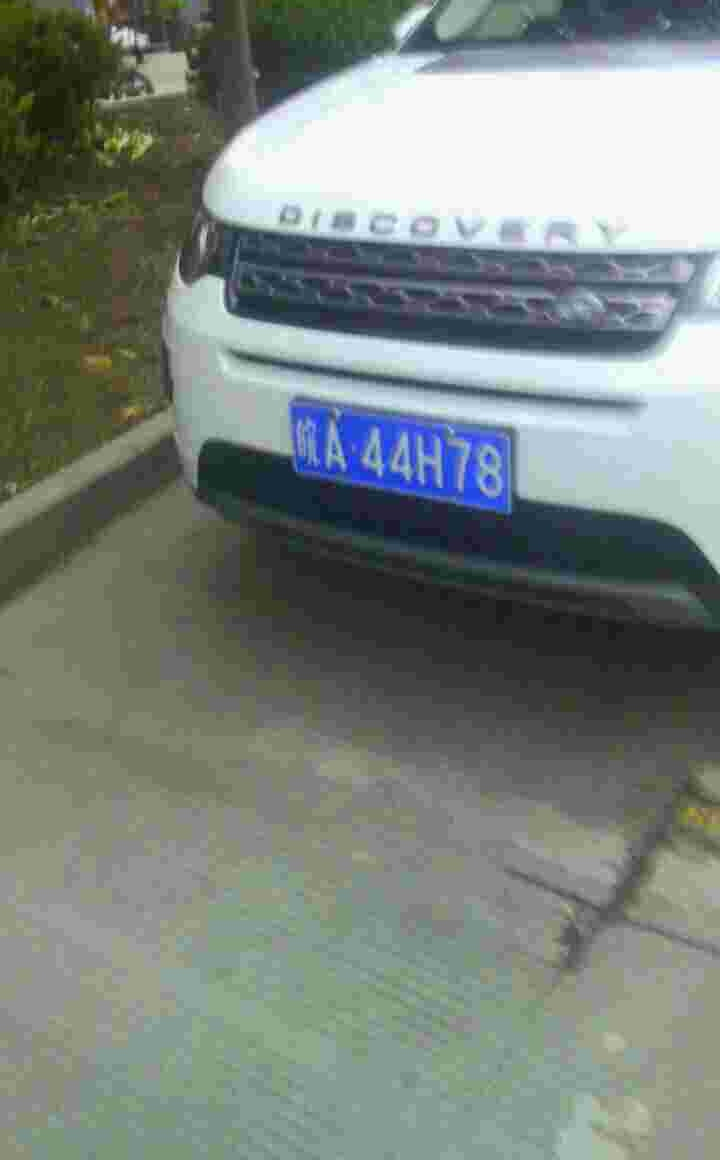license_plate: (285, 404, 521, 513)
